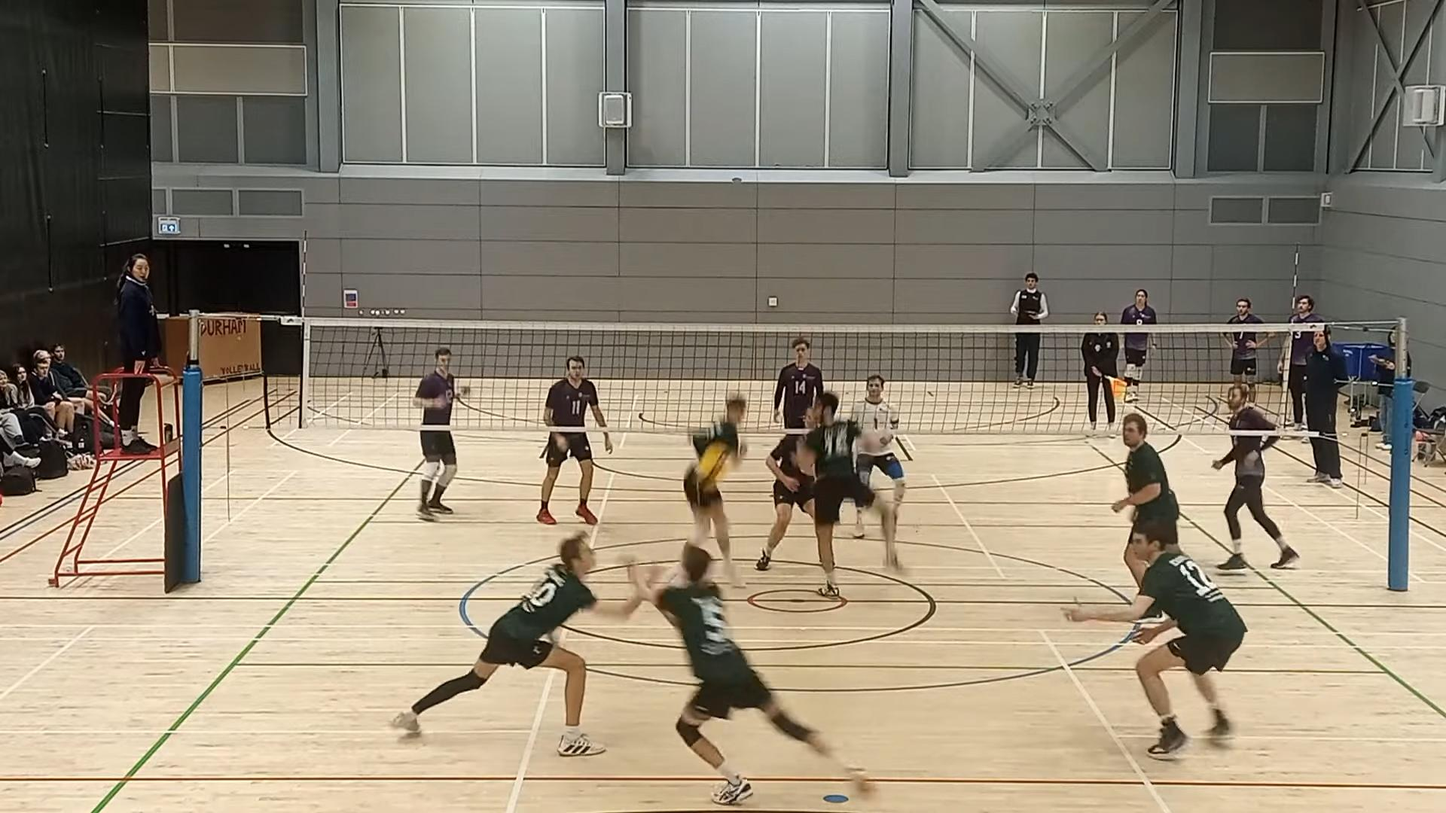Dig: (619, 543, 877, 802), (389, 531, 670, 758)
Player: (1066, 521, 1246, 760), (796, 391, 901, 596), (1213, 383, 1298, 570), (536, 356, 612, 524), (682, 394, 746, 586), (1112, 413, 1179, 533), (755, 435, 813, 570), (413, 347, 458, 520), (851, 375, 906, 509), (773, 337, 823, 428)
ball: (693, 443, 732, 478)
